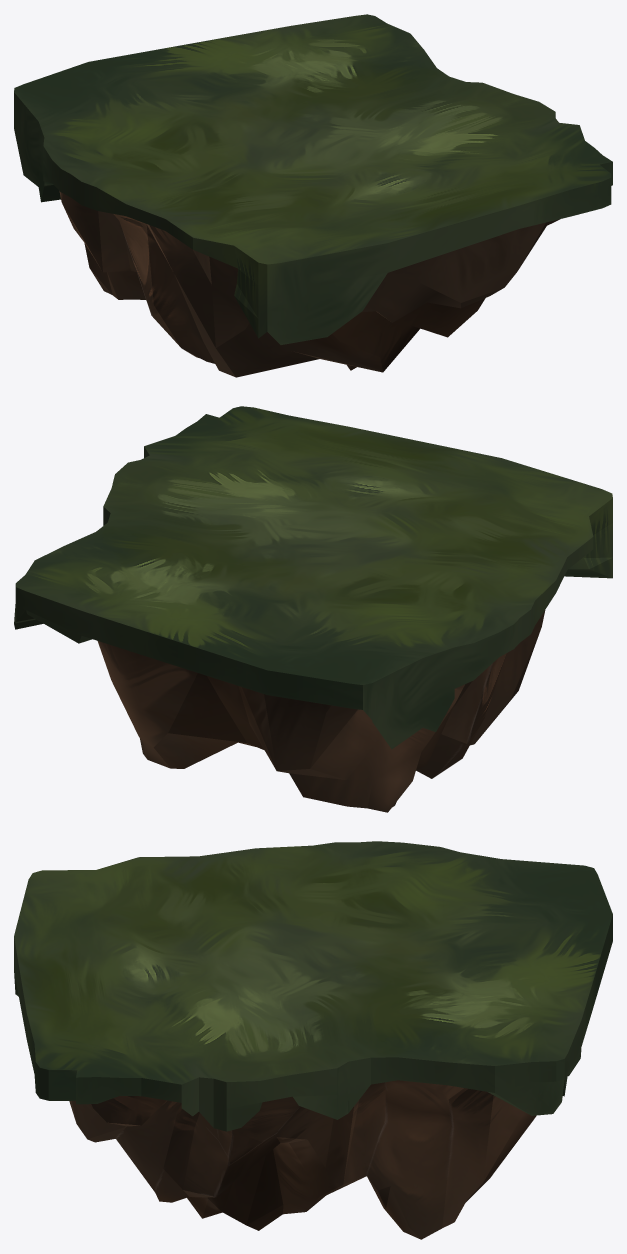
Rendered from wyspa_mala_1.obj.
The picture shows the model from 3 angles, top to bottom: view 1: azimuth 30°, elevation 25°; view 2: azimuth 150°, elevation 25°; view 3: azimuth 270°, elevation 25°; orthographic projection. The views are drawn at different scales.
Visible parts, largest first — view 1: Landscape.015; view 2: Landscape.015; view 3: Landscape.015.
Part boxes in pixels (x1,y1,x2,y2): Landscape.015: (14,14,612,377); Landscape.015: (14,406,612,812); Landscape.015: (14,841,612,1239).
Bounding box in the file's own units: 14.04 × 6.88 × 14.6.
Materials: 2 (2 with a texture image).
